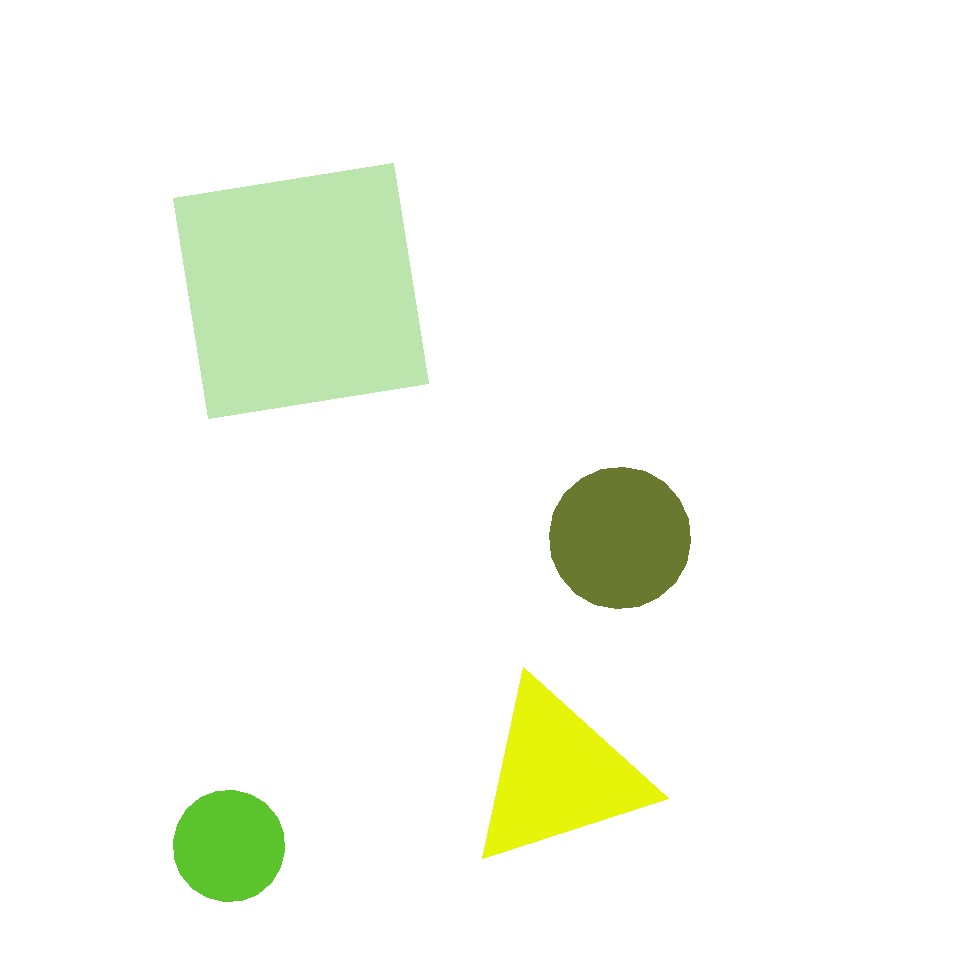circle: (215, 593, 482, 839), (426, 474, 636, 700), (465, 680, 651, 870), (56, 583, 198, 715), (569, 497, 671, 595)
square: (113, 390, 380, 657), (174, 163, 428, 418), (756, 351, 936, 532)
triangle: (550, 468, 691, 608), (174, 790, 284, 902)
